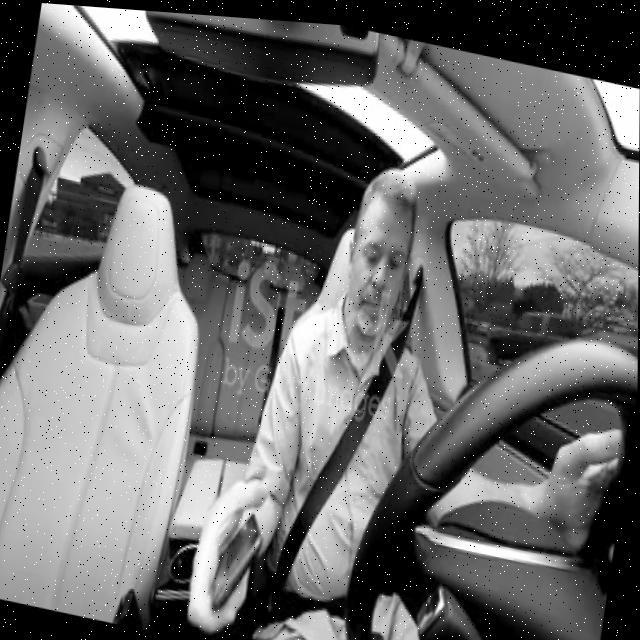PhoneCall: (210, 492, 272, 616)
